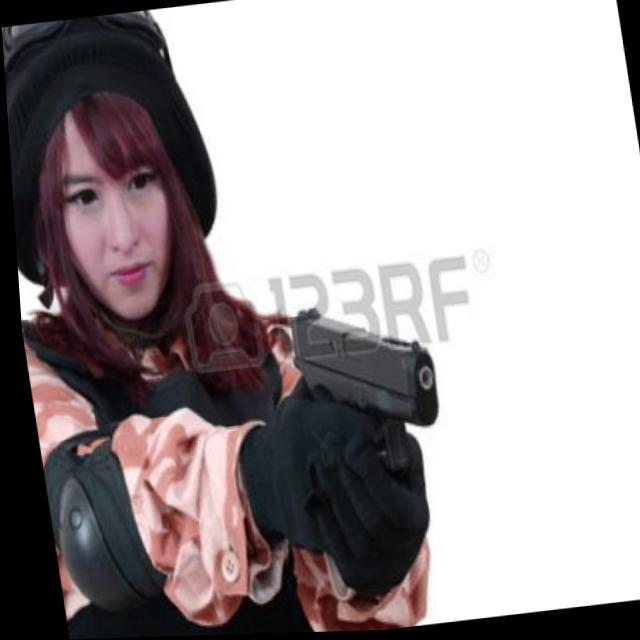weapon: (255, 292, 463, 544)
